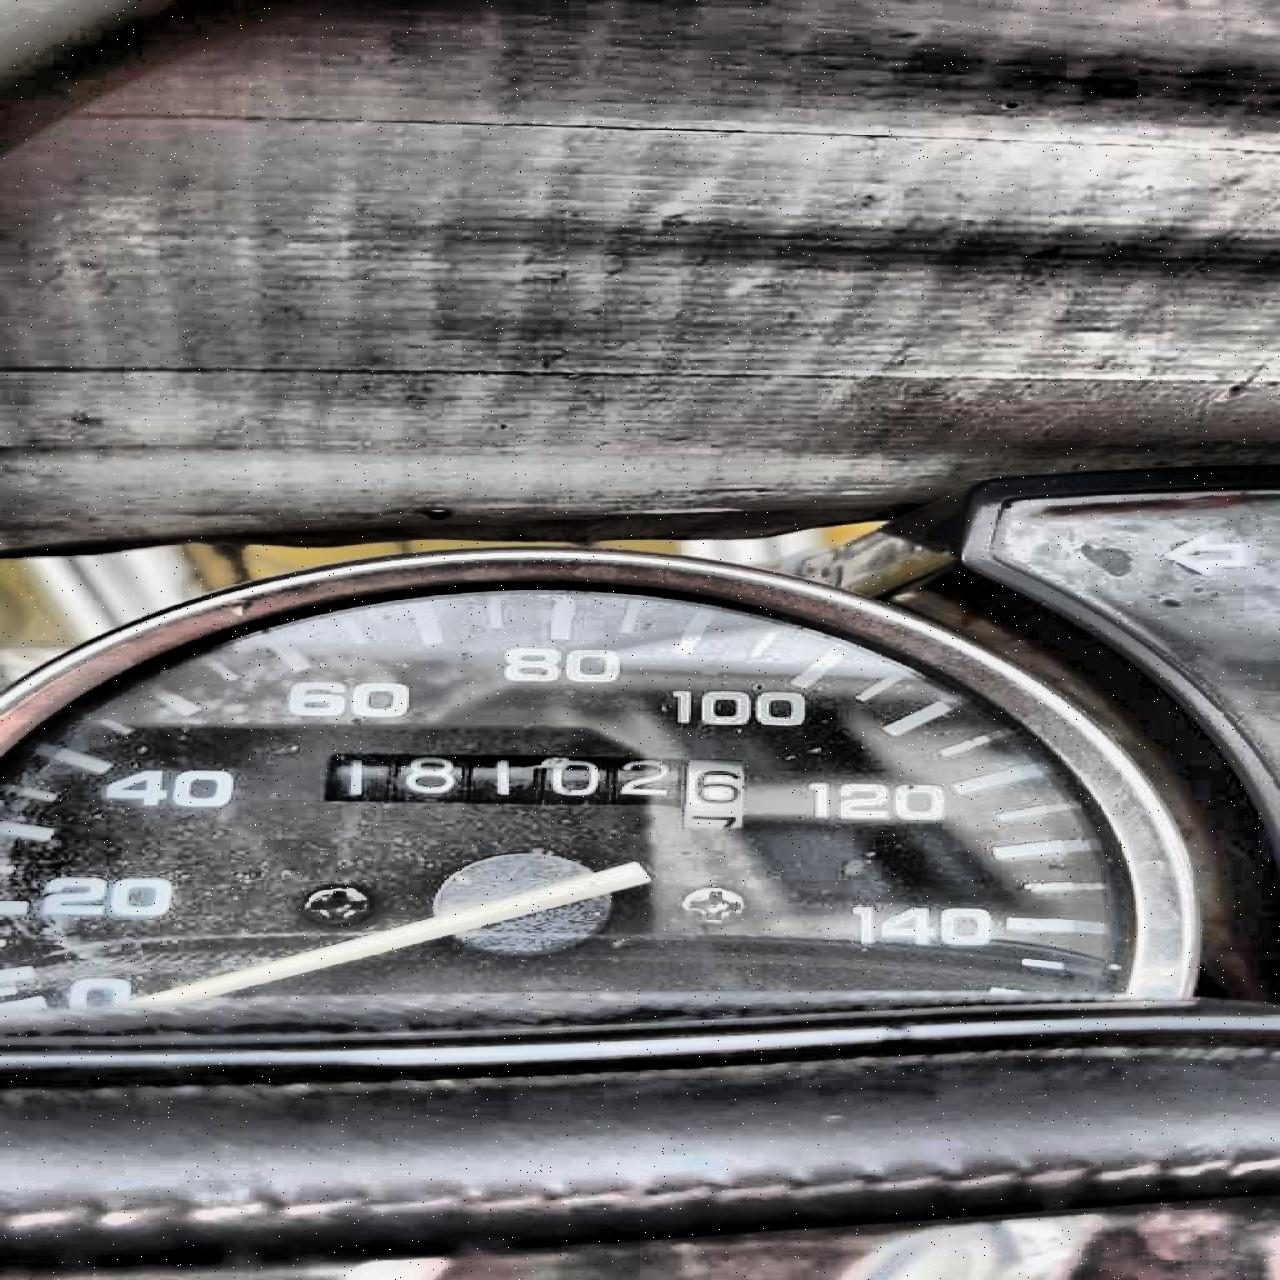0: (549, 755, 602, 799)
1: (482, 756, 526, 811), (335, 755, 369, 805)
2: (615, 755, 672, 799)
6: (689, 761, 742, 808)
8: (400, 751, 458, 794)
odometer: (315, 748, 749, 832)
